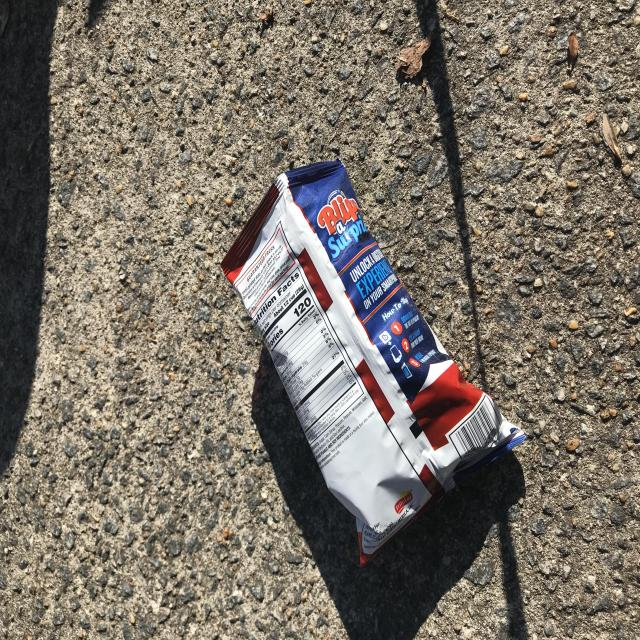litter: (206, 149, 527, 588)
